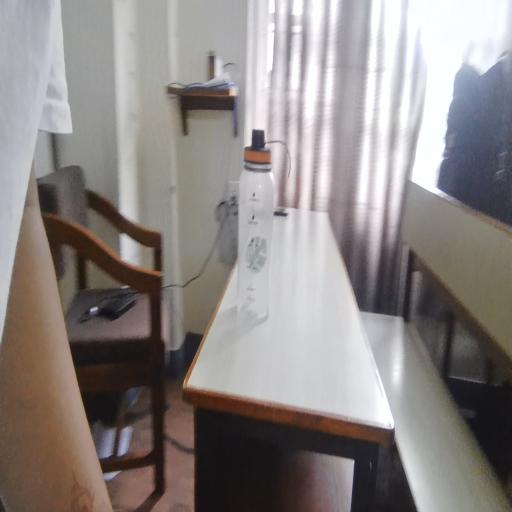Bottle: (234, 134, 292, 338)
